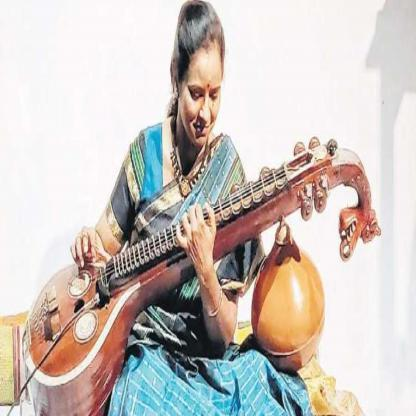Veena: (12, 170, 281, 388)
